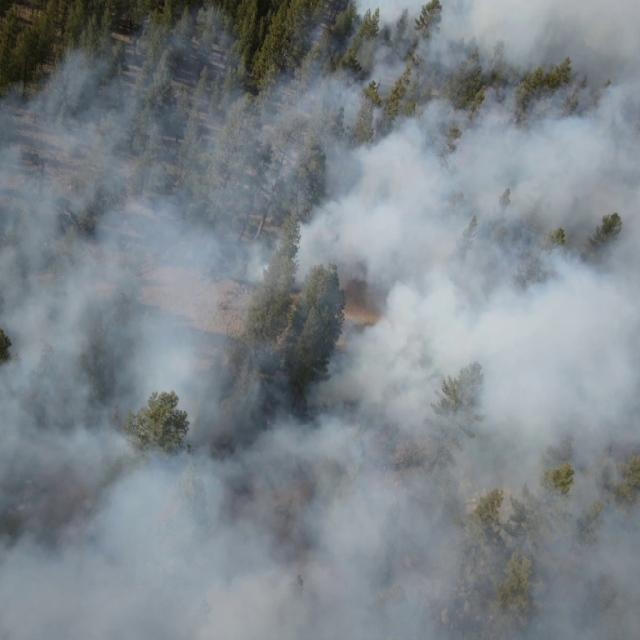smoke: (0, 46, 640, 640), (298, 0, 640, 45), (79, 7, 238, 48)
